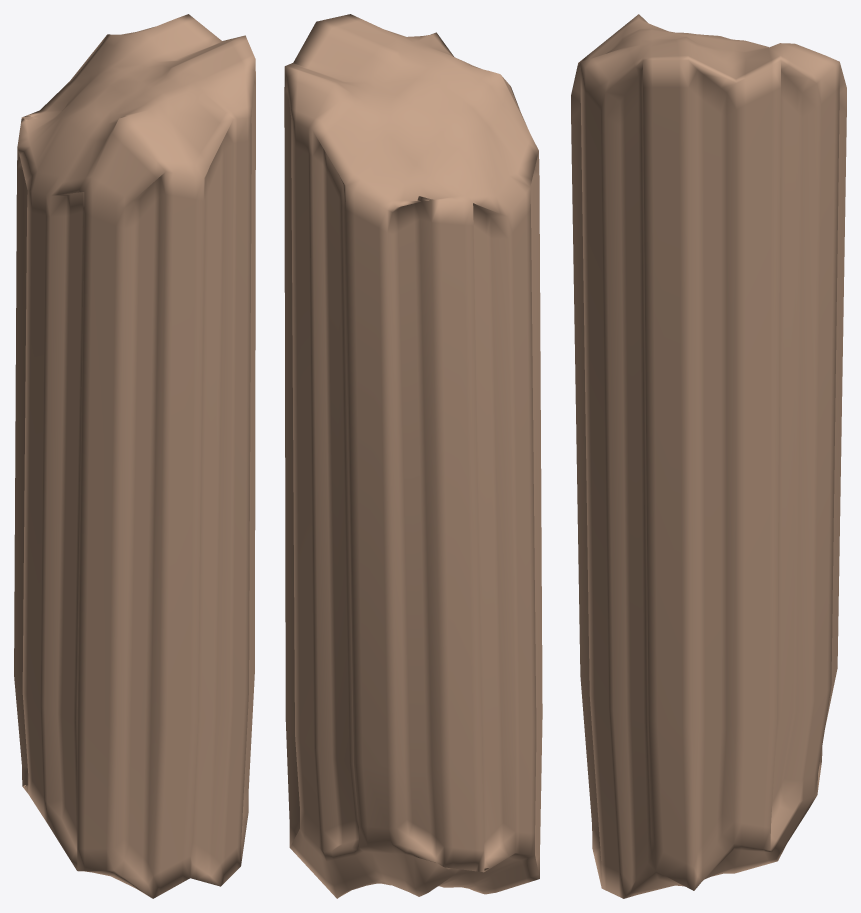
Rendered from Pillar_Ruin_4_LP.FBX.
The picture shows the model from 3 angles, left to right: view 1: azimuth 30°, elevation 25°; view 2: azimuth 150°, elevation 25°; view 3: azimuth 270°, elevation 25°; orthographic projection. The views are drawn at different scales.
Parts seen in each view (by area): view 1: Ruin_Pillar_1; view 2: Ruin_Pillar_1; view 3: Ruin_Pillar_1.
Boxes of the visible parts, bbox=[...] form: Ruin_Pillar_1: bbox=[14, 14, 255, 898]; Ruin_Pillar_1: bbox=[284, 14, 542, 898]; Ruin_Pillar_1: bbox=[571, 14, 846, 898].
Size of the model in its own units: 69.68 by 259 by 75.12.
